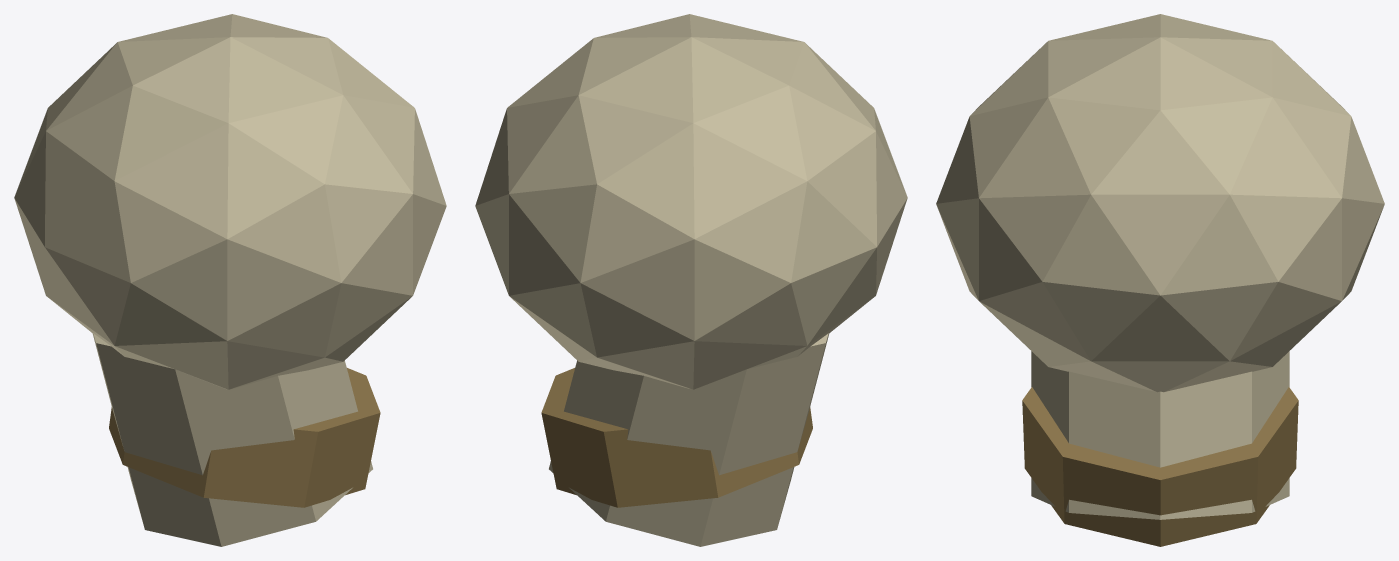
The model's file is ArmRight.glb.
3 views of the same model, side by side, from view 1: azimuth 30°, elevation 25°; view 2: azimuth 150°, elevation 25°; view 3: azimuth 270°, elevation 25° (orthographic).
Visible parts, largest first — view 1: Sculpture; view 2: Sculpture; view 3: Sculpture.
Boxes of the visible parts, left/top/right/bottom form: Sculpture: left=14, top=14, right=446, bottom=546; Sculpture: left=475, top=14, right=907, bottom=546; Sculpture: left=936, top=14, right=1384, bottom=546.
Bounding box in the file's own units: 0.342 × 0.4154 × 0.354.
